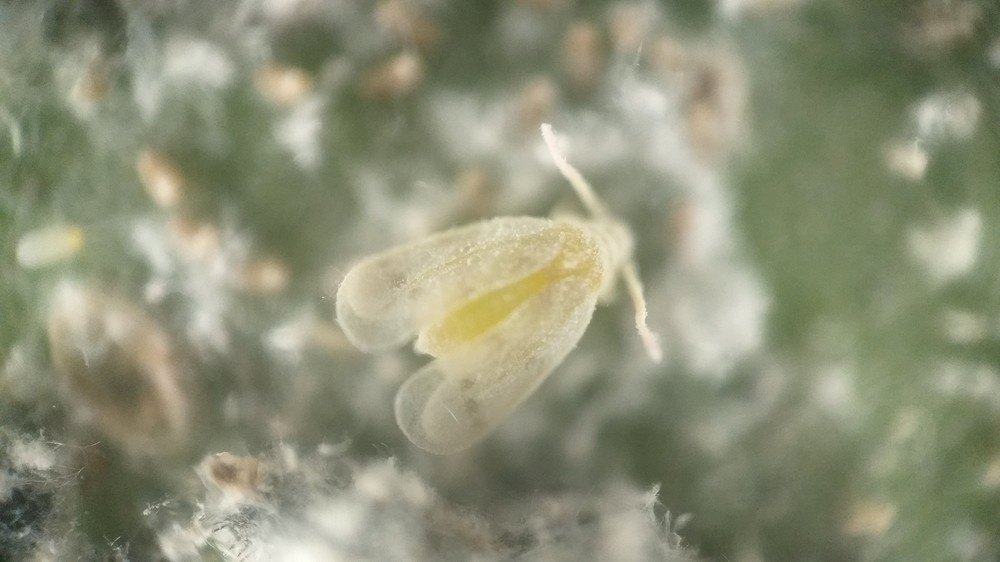Mosca Blanca: (326, 118, 706, 472)
